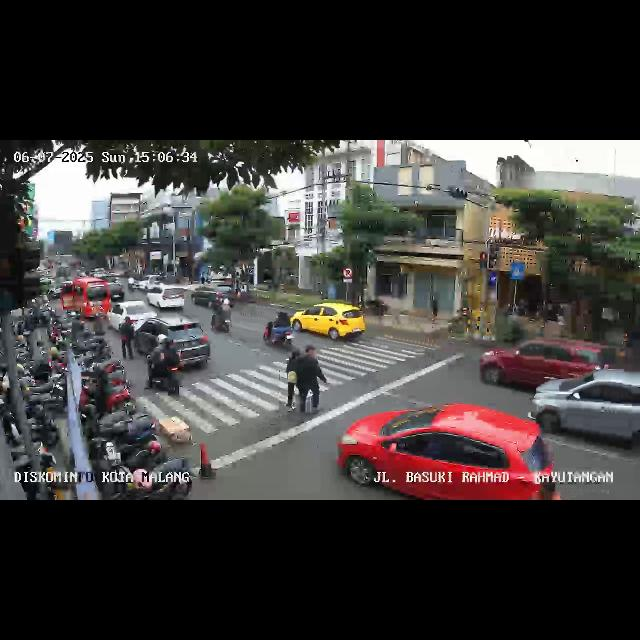car: (338, 404, 554, 500), (528, 363, 640, 443), (482, 336, 612, 394), (134, 318, 210, 372), (292, 301, 366, 343), (60, 278, 110, 320), (102, 298, 158, 334), (146, 282, 188, 314), (192, 284, 222, 310), (108, 282, 125, 302)
motorcycle: (146, 334, 182, 396), (262, 306, 296, 350), (210, 296, 232, 334)
person: (302, 346, 328, 414), (286, 346, 302, 414), (120, 315, 136, 359)
